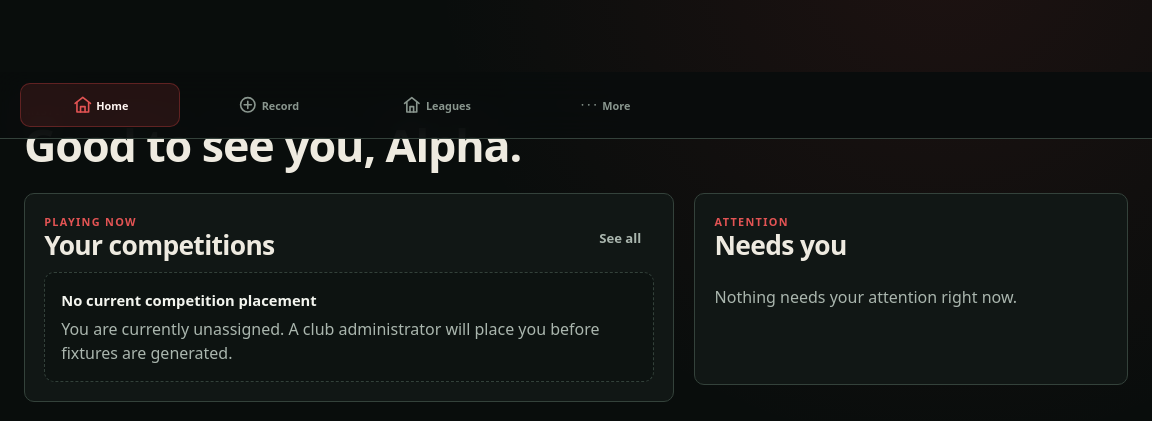
Test: load failure recovery › lets a member retry a failed club players list
Click the button "More". click: (604, 105)
box: [524,83,684,127]
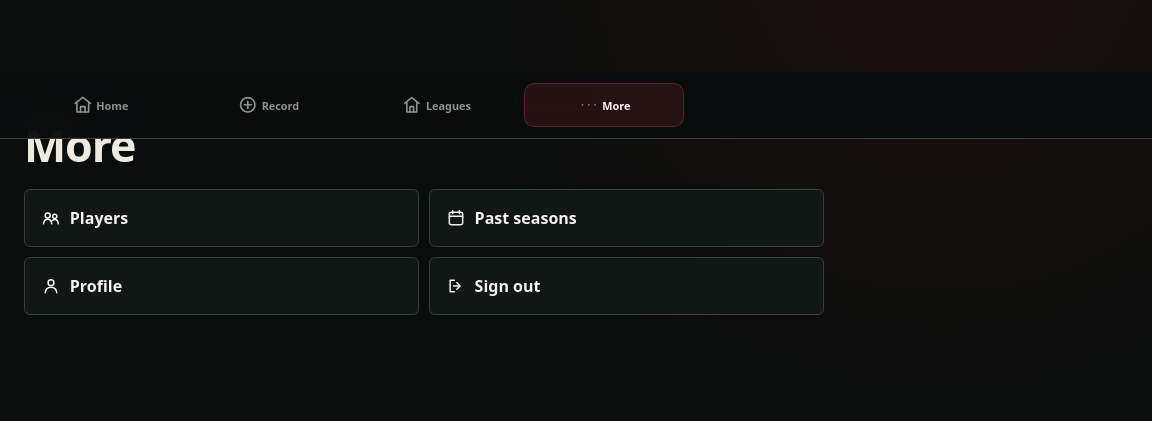
Click the button "Players". click: (99, 218)
box: [24,189,419,247]
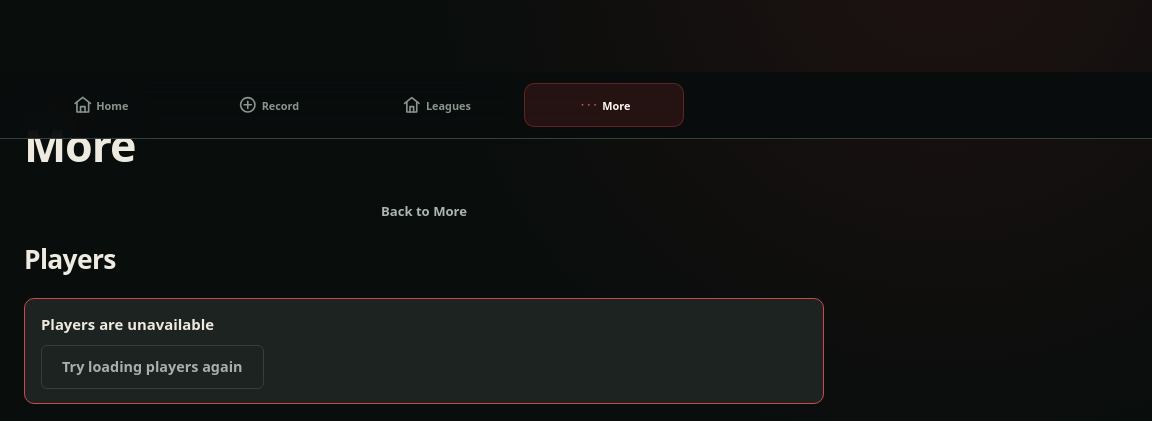
Expected: the message shows "Players are unavailable", [41,314,214,334]
Click the button "Try loading players again". click: (152, 367)
box: [41,345,264,389]
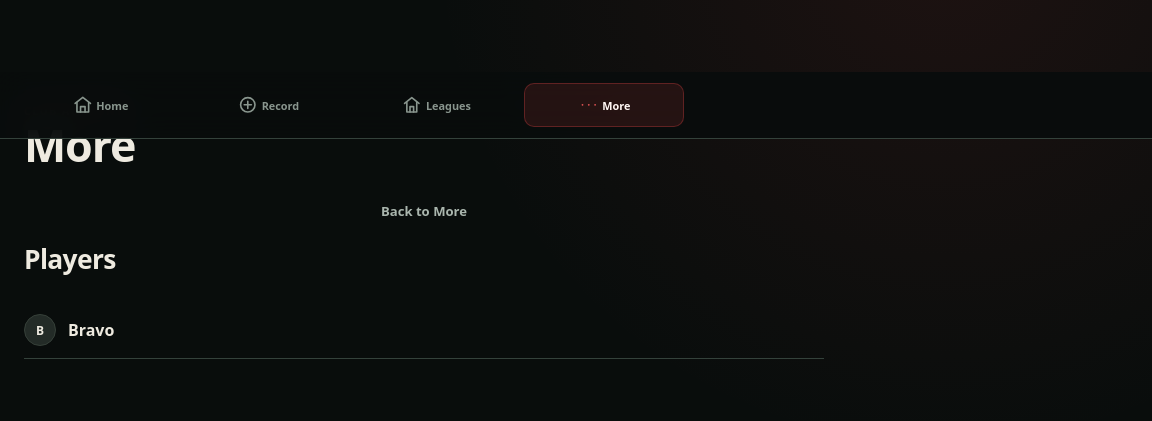
Expected: the text "Bravo" is shown, [68,319,114,341]
Expected: the button "Try loading players again" is gone
